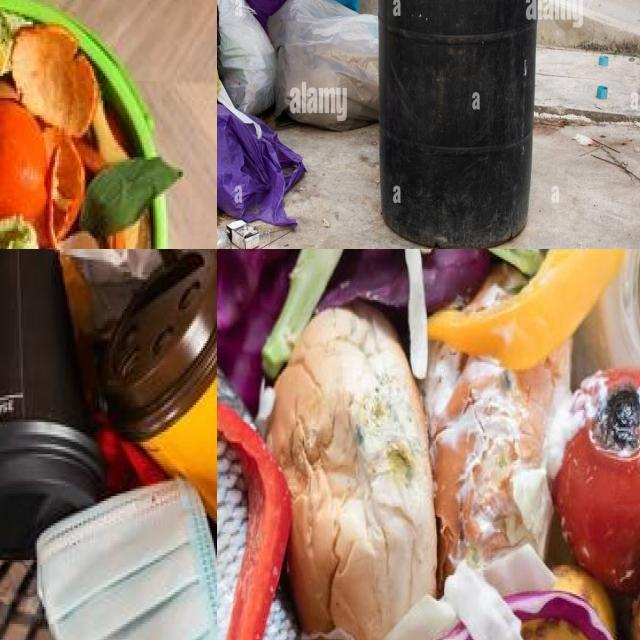Disposable: (37, 479, 217, 640)
Garbage: (217, 249, 640, 640), (217, 0, 379, 226)
Paper: (61, 249, 161, 329)
Plastic_Bag: (267, 0, 379, 130), (217, 104, 305, 227), (217, 0, 277, 115)
Plastic_bottle: (0, 249, 104, 556), (104, 249, 217, 523), (573, 249, 640, 387)
contaminated_waste: (0, 249, 217, 566)
top_view_waste: (0, 249, 217, 640), (0, 6, 181, 249)
